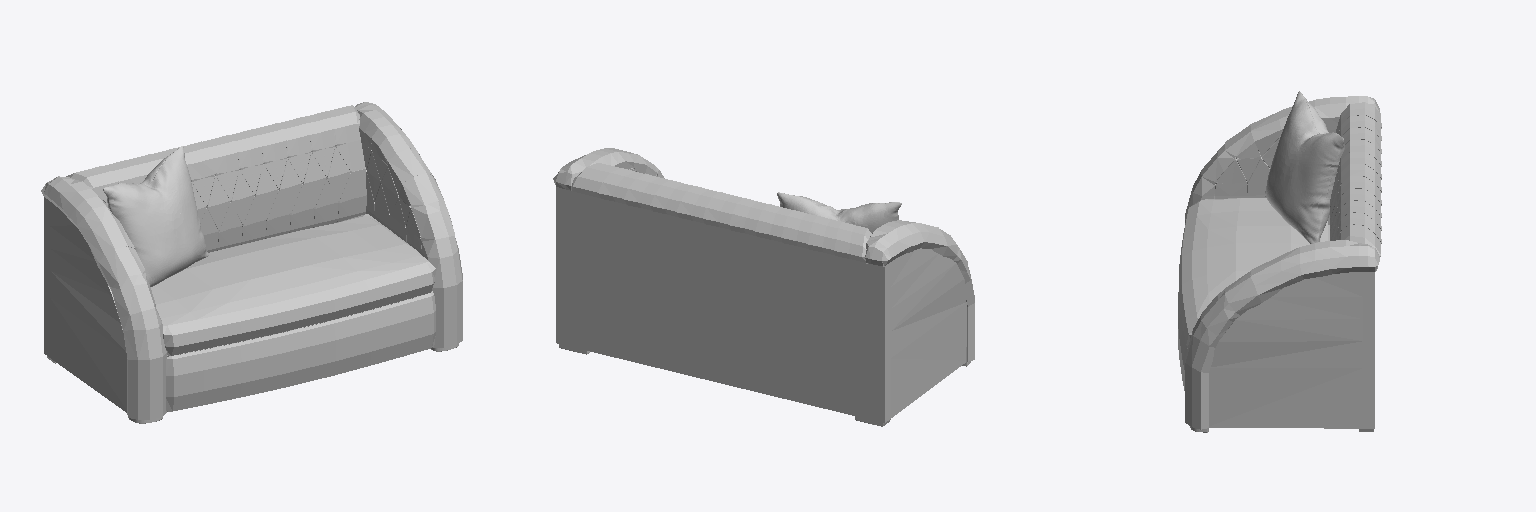
File: Sofa.obj
3 views of the same model, side by side, from view 1: azimuth 30°, elevation 25°; view 2: azimuth 150°, elevation 25°; view 3: azimuth 270°, elevation 25° (orthographic).
Parts seen in each view (by area): view 1: Sofa; view 2: Sofa; view 3: Sofa.
Part boxes in pixels (x1,y1,x2,y2): Sofa: (41,102,462,423); Sofa: (553,148,974,426); Sofa: (1178,91,1381,432).
Bounding box in the file's own units: 1657 × 911 × 867.